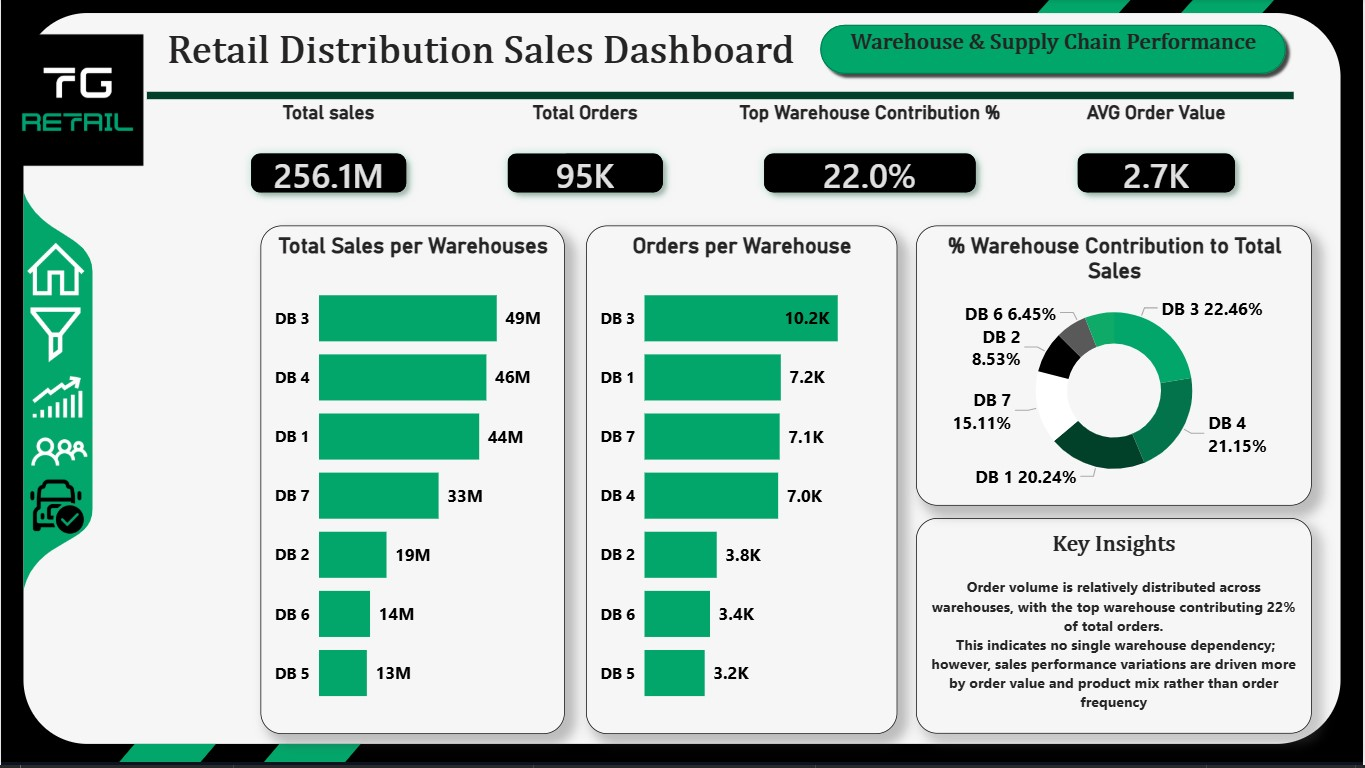

Layout of this report page (visuals, bound fields, positions):
{"tool":"powerbi","page":{"name":"Warehouse & Supply Chain Performance","canvas":[1280,720],"ordinal":3},"visuals":[{"type":"cardVisual","title":"AVG Order Value","fields":{"Data":["key_Measures.Avg Order Value"]},"box":[982.6,95.9,206.1,115],"z":0},{"type":"image","title":"logo","box":[0,0,143.8,190.1],"z":1000},{"type":"textbox","box":[150.2,22.4,611.9,55.9],"z":2000},{"type":"shape","box":[762.1,17.6,452.1,60.7],"z":3000},{"type":"textbox","box":[762.1,22.4,452.1,55.9],"z":4000},{"type":"clusteredBarChart","title":"Total Sales per Warehouses","fields":{"Category":["warehouse.Warehouse Name"],"Y":["key_Measures.Total Sales"]},"box":[244.4,212.5,286,477.7],"z":5000},{"type":"cardVisual","title":"Total Orders","fields":{"Data":["key_Measures.Count of Orders"]},"box":[447.1,95.4,204.5,115],"z":6000},{"type":"cardVisual","title":"Top Warehouse Contribution %","fields":{"Data":["key_Measures.Top Warehouse Contribution %"]},"box":[688.5,95.4,257.2,115],"z":7000},{"type":"cardVisual","title":"Total sales","fields":{"Data":["key_Measures.Total Sales"]},"box":[206.1,95.4,204.1,115.5],"z":8000},{"type":"clusteredBarChart","title":"Orders per Warehouse","fields":{"Y":["key_Measures.Count of Orders"],"Category":["sales.Warehouse Name"]},"box":[549.6,212.5,292.4,477.7],"z":9000},{"type":"image","title":"sales","box":[20.8,346.7,63.9,57.5],"z":10000},{"type":"image","title":"home","box":[16,223.7,71.9,62.3],"z":11000},{"type":"image","title":"customers","box":[20.8,399.4,67.1,52.7],"z":12000},{"type":"image","title":"filter","box":[17.6,281.2,68.7,70.3],"z":14000},{"type":"image","title":"Supply Active","box":[16.5,447,69.3,57.7],"z":20000},{"type":"donutChart","title":"% Warehouse Contribution to Total Sales ","fields":{"Category":["warehouse.Warehouse Name"],"Y":["key_Measures.Warehouse Contribution %"]},"box":[859.5,212.5,372.3,263.6],"z":21000},{"type":"textbox","box":[859.5,487.3,372.3,202.9],"z":22000}]}

Visuals, with their boxes in screenshot pixels (x1, y1, x2, y2), scaled from the page's 1280x720 canvas onto the 1365x768 screenshot:
"AVG Order Value" cardVisual: detection(1048, 102, 1268, 225)
"logo" image: detection(0, 0, 153, 203)
textbox: detection(160, 24, 813, 84)
shape: detection(813, 19, 1295, 84)
textbox: detection(813, 24, 1295, 84)
"Total Sales per Warehouses" clusteredBarChart: detection(261, 227, 566, 736)
"Total Orders" cardVisual: detection(477, 102, 695, 224)
"Top Warehouse Contribution %" cardVisual: detection(734, 102, 1009, 224)
"Total sales" cardVisual: detection(220, 102, 437, 225)
"Orders per Warehouse" clusteredBarChart: detection(586, 227, 898, 736)
"sales" image: detection(22, 370, 90, 431)
"home" image: detection(17, 239, 94, 305)
"customers" image: detection(22, 426, 94, 482)
"filter" image: detection(19, 300, 92, 375)
"Supply Active" image: detection(18, 477, 91, 538)
"% Warehouse Contribution to Total Sales " donutChart: detection(917, 227, 1314, 508)
textbox: detection(917, 520, 1314, 736)
